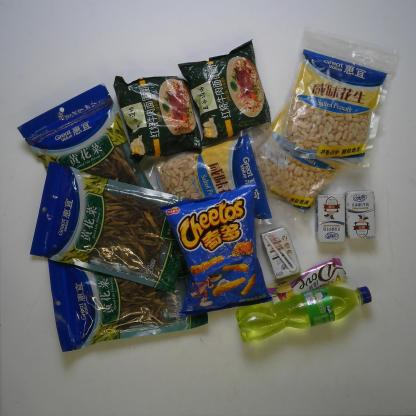Chocolate: (265, 256, 349, 304)
Dried Food: (26, 159, 191, 295), (46, 250, 209, 354), (14, 80, 157, 195)
Dried Fruit: (275, 21, 401, 176), (146, 121, 297, 226), (249, 92, 351, 218)
Drink: (234, 284, 373, 344)
Instant Noodles: (178, 37, 274, 149), (112, 72, 204, 166)
Milk: (260, 225, 302, 280), (344, 189, 378, 243), (314, 194, 346, 244)
Puffed Food: (159, 180, 274, 316)
